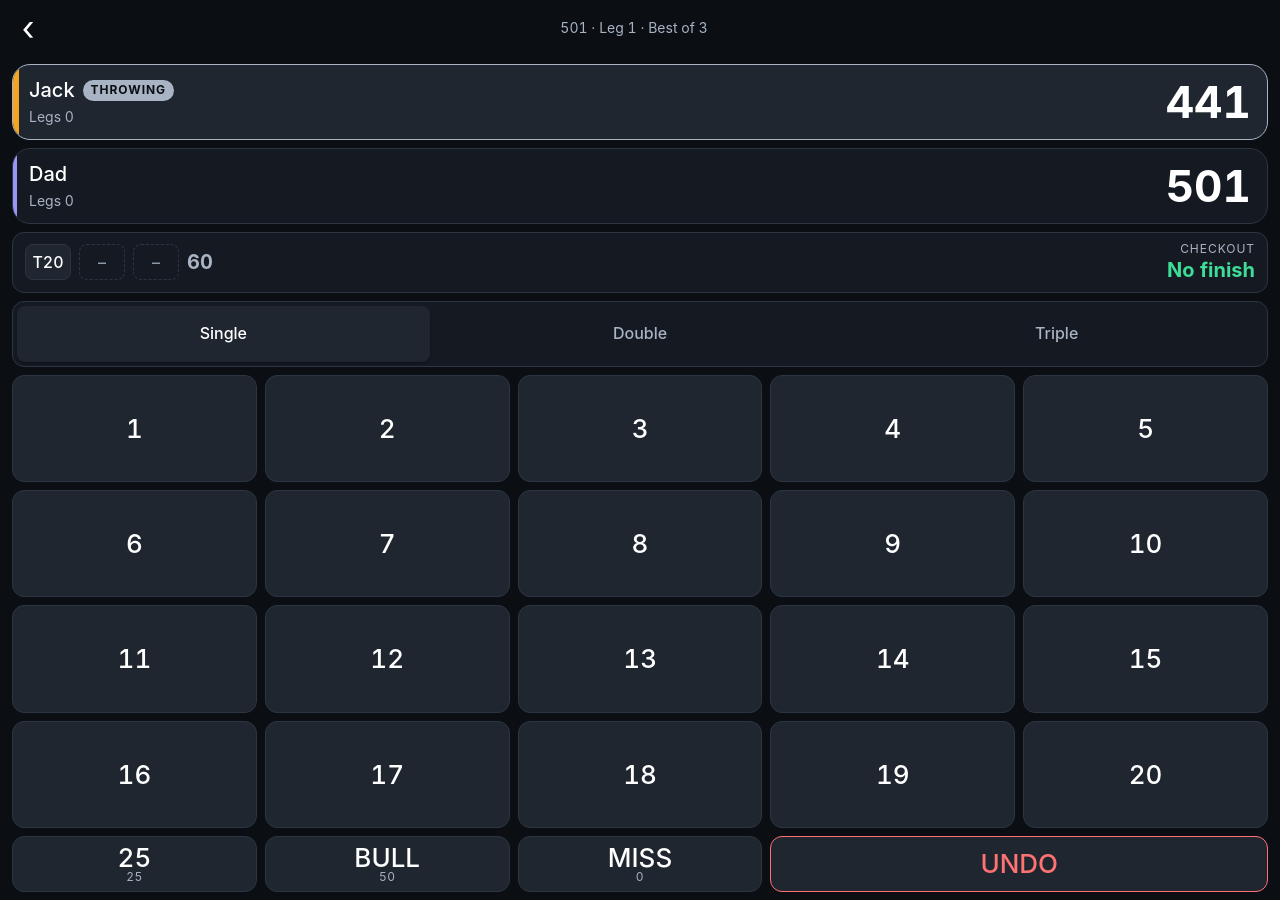
Test: undo › posts to the leg being played and repaints from the response
Click the button "UNDO". click: (1019, 864)
box: [770,836,1268,892]
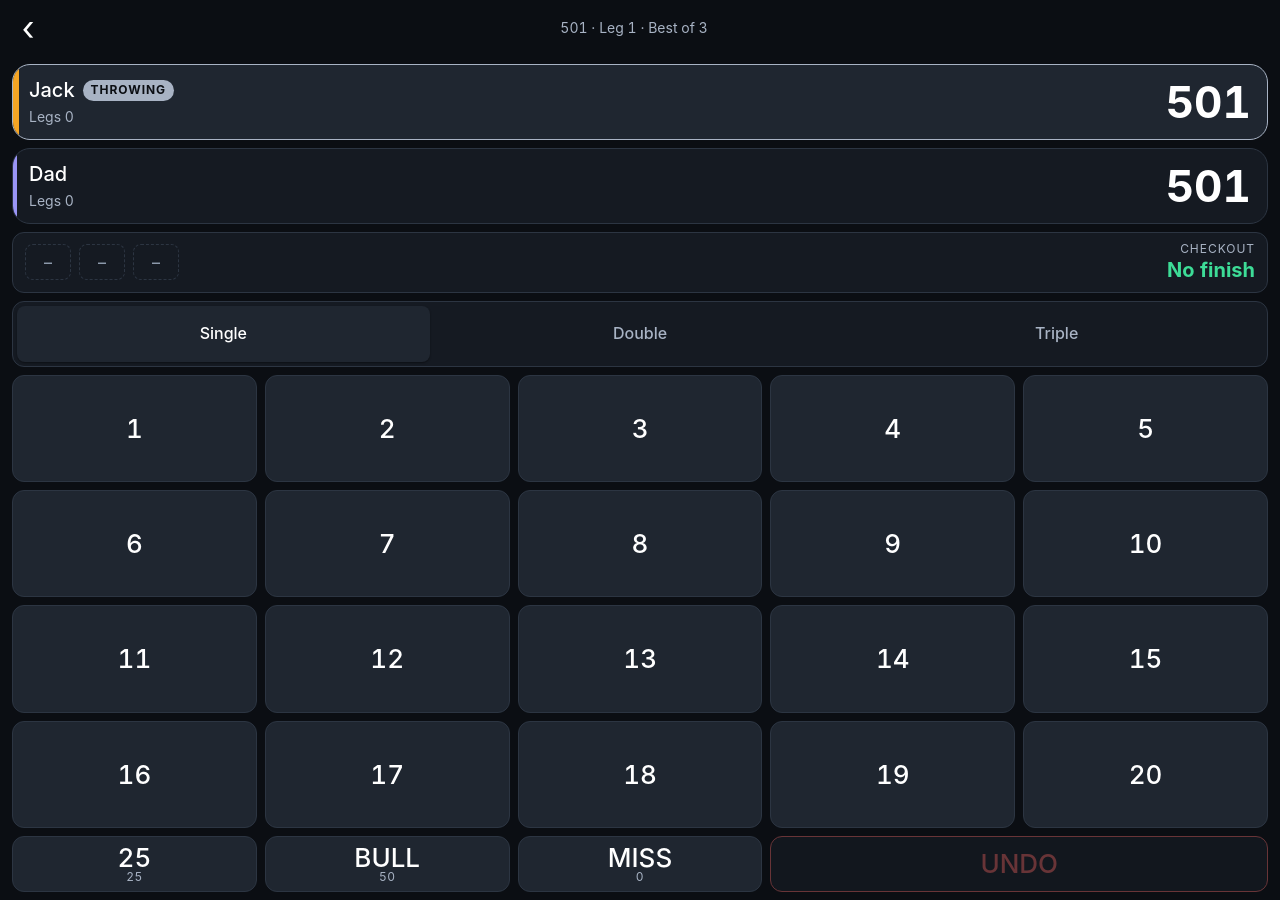
Expected: the element named "Jack, 501 remaining, 0 legs won, throwing now" is shown, [12,64,1268,140]
Expected: the text named "Dart 1, not thrown" is shown, [25,244,71,280]
